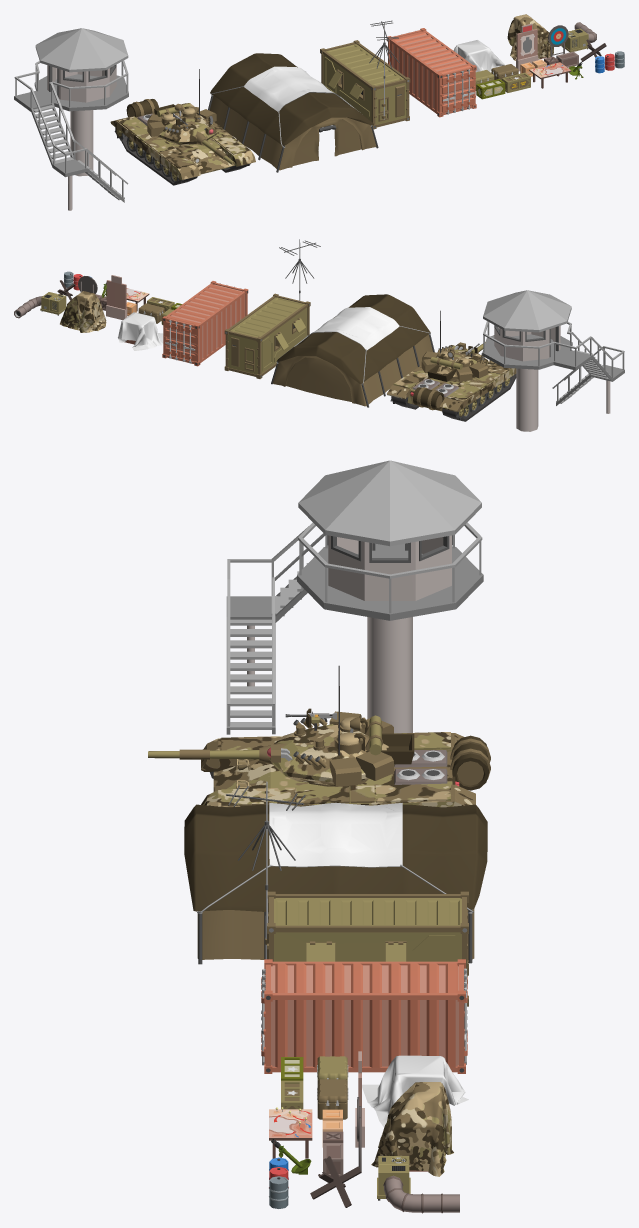
File: Military_Assets_Low_Poly.glb
3 views of the same model, one above another, from view 1: azimuth 30°, elevation 25°; view 2: azimuth 150°, elevation 25°; view 3: azimuth 270°, elevation 25° (orthographic). The views are drawn at different scales.
Visible parts, largest first — view 1: tower_001_Material_0, tent_001_picture_1_0, container_001_Material_0, radiostation_001_picture_1_0, tank_001_picture_1_0, tent_001_Material_0, tank_tower_001_picture_1_0, box_002_picture_1_0, tank_001_Material_0, box_001_Material_0, target_002_Material_0, table_001_Material_0 (+8 smaller); view 2: tower_001_Material_0, tent_001_picture_1_0, radiostation_001_picture_1_0, container_001_Material_0, tank_001_picture_1_0, tent_001_Material_0, tank_tower_001_picture_1_0, box_002_picture_1_0, tank_001_Material_0, box_001_Material_0, target_002_Material_0, conditioner_001_picture_1_0 (+3 smaller); view 3: tower_001_Material_0, tent_001_picture_1_0, container_001_Material_0, radiostation_001_picture_1_0, tank_001_picture_1_0, tent_001_Material_0, tank_tower_001_picture_1_0, box_002_picture_1_0, box_001_Material_0, conditioner_001_Material_0, tank_001_Material_0, table_001_Material_0 (+3 smaller).
Boxes of the visible parts, x1=… form: tower_001_Material_0: x1=14, y1=28, x2=128, y2=210; tent_001_picture_1_0: x1=209, y1=53, x2=376, y2=170; container_001_Material_0: x1=386, y1=28, x2=476, y2=117; radiostation_001_picture_1_0: x1=320, y1=40, x2=410, y2=129; tank_001_picture_1_0: x1=110, y1=99, x2=255, y2=180; tent_001_Material_0: x1=208, y1=66, x2=378, y2=172; tank_tower_001_picture_1_0: x1=147, y1=103, x2=217, y2=145; box_002_picture_1_0: x1=507, y1=14, x2=553, y2=60; tank_001_Material_0: x1=114, y1=113, x2=250, y2=185; box_001_Material_0: x1=453, y1=40, x2=504, y2=72; target_002_Material_0: x1=516, y1=23, x2=538, y2=71; table_001_Material_0: x1=529, y1=62, x2=571, y2=88; tower_001_Material_0: x1=482, y1=290, x2=624, y2=431; tent_001_picture_1_0: x1=273, y1=294, x2=432, y2=406; radiostation_001_picture_1_0: x1=224, y1=293, x2=310, y2=378; container_001_Material_0: x1=162, y1=281, x2=248, y2=366; tank_001_picture_1_0: x1=387, y1=345, x2=516, y2=416; tent_001_Material_0: x1=271, y1=307, x2=434, y2=407; tank_tower_001_picture_1_0: x1=421, y1=342, x2=488, y2=381; box_002_picture_1_0: x1=60, y1=291, x2=106, y2=332; tank_001_Material_0: x1=390, y1=374, x2=516, y2=421; box_001_Material_0: x1=118, y1=312, x2=163, y2=350; target_002_Material_0: x1=106, y1=275, x2=127, y2=320; conditioner_001_picture_1_0: x1=40, y1=292, x2=66, y2=314; tower_001_Material_0: x1=226, y1=460, x2=483, y2=734; tent_001_picture_1_0: x1=184, y1=804, x2=487, y2=959; container_001_Material_0: x1=261, y1=959, x2=467, y2=1073; radiostation_001_picture_1_0: x1=265, y1=891, x2=468, y2=1006; tank_001_picture_1_0: x1=201, y1=732, x2=490, y2=807; tent_001_Material_0: x1=197, y1=802, x2=473, y2=964; tank_tower_001_picture_1_0: x1=269, y1=708, x2=414, y2=786; box_002_picture_1_0: x1=371, y1=1082, x2=453, y2=1176; box_001_Material_0: x1=362, y1=1055, x2=468, y2=1127; conditioner_001_Material_0: x1=378, y1=1157, x2=459, y2=1213; tank_001_Material_0: x1=210, y1=750, x2=459, y2=785; table_001_Material_0: x1=269, y1=1107, x2=312, y2=1158.
Size of the model in its own units: 38.94 by 9.31 by 10.45.
2 materials, 2 textured.
